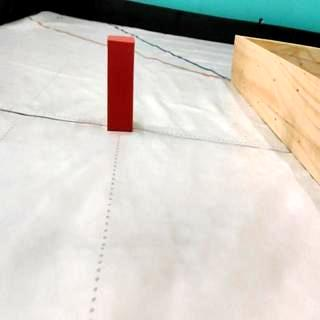redbox: (106, 34, 136, 132)
